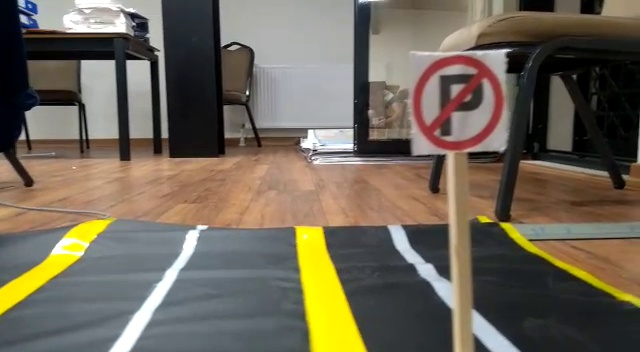park_yapilmaz: (407, 50, 507, 152)
